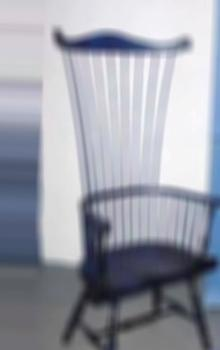chair: (48, 23, 219, 349)
